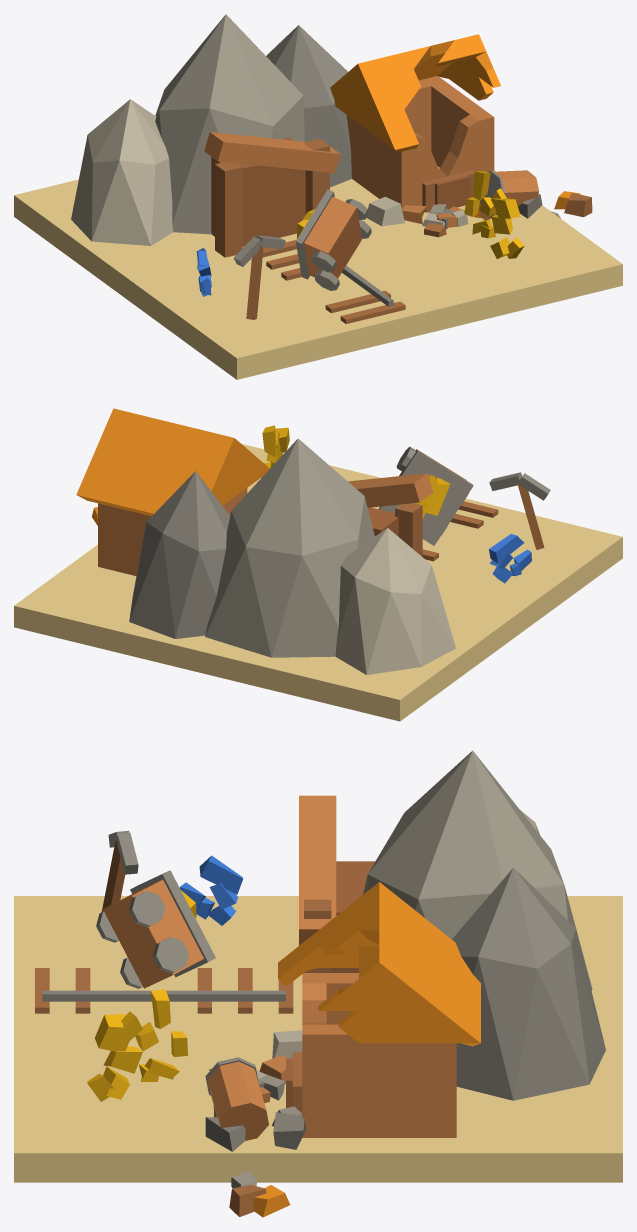
File: mine_t2_v1_dmg1.glb
The picture shows the model from 3 angles, top to bottom: view 1: azimuth 30°, elevation 25°; view 2: azimuth 150°, elevation 25°; view 3: azimuth 270°, elevation 25°; orthographic projection. The views are drawn at different scales.
Visible parts, largest first — view 1: mine_t2_v1_dmg1; view 2: mine_t2_v1_dmg1; view 3: mine_t2_v1_dmg1.
Part boxes in pixels (x1,y1,x2,y2): mine_t2_v1_dmg1: [14, 14, 622, 379]; mine_t2_v1_dmg1: [14, 408, 622, 721]; mine_t2_v1_dmg1: [14, 750, 622, 1217].
Bounding box in the file's own units: 0.855 × 0.38 × 0.75.
1 material, 1 textured.
